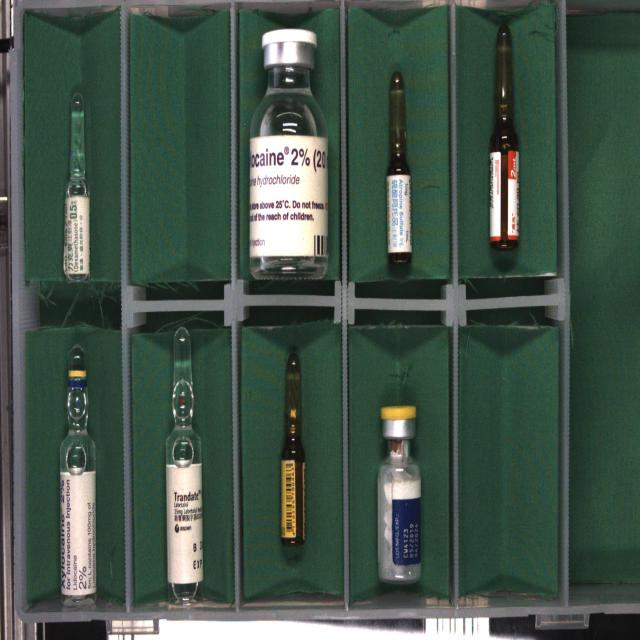Vials: (249, 28, 328, 279), (378, 405, 420, 583)
